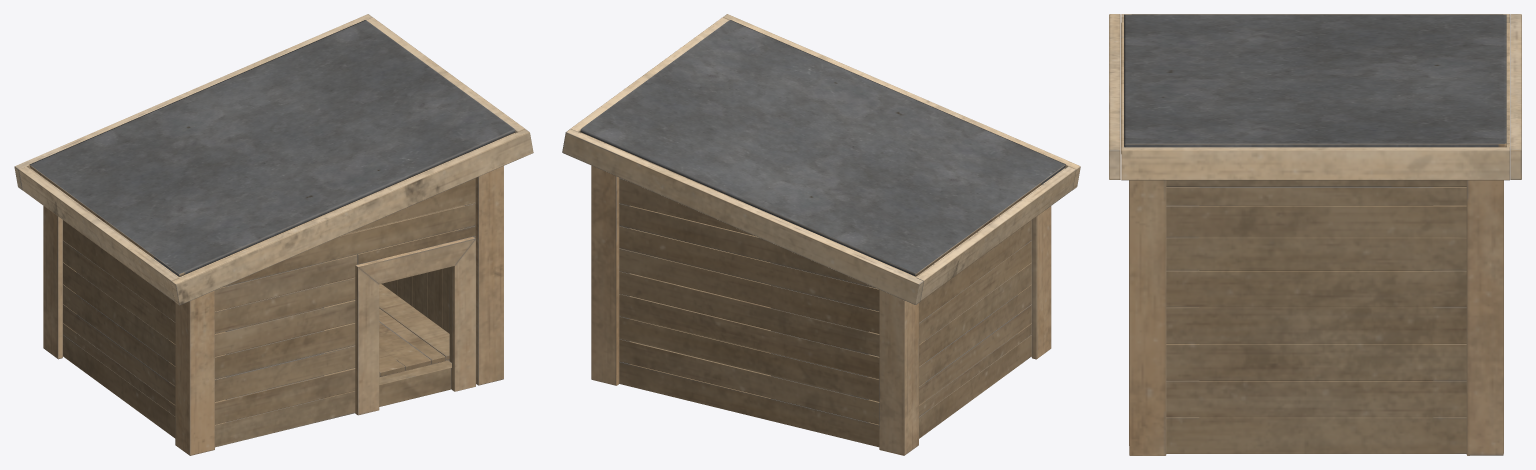
Rendered from Wooden_Kennel.fbx.
3 views of the same model, side by side, from view 1: azimuth 30°, elevation 25°; view 2: azimuth 150°, elevation 25°; view 3: azimuth 270°, elevation 25° (orthographic). The views are drawn at different scales.
Parts seen in each view (by area): view 1: Roof_Concrete_Geo, FrontWall_Outside_Geo1, Roof_Geo, LeftWall_Outside_Geo1, Outside_Frames_Geo, Door_Frame_Geo, Floor_Frame_Geo, RightWall_Outside_Geo1; view 2: Roof_Concrete_Geo, BackWall_Outside_Geo1, Roof_Geo, LeftWall_Outside_Geo1, Outside_Frames_Geo; view 3: RightWall_Outside_Geo1, Roof_Concrete_Geo, Outside_Frames_Geo, Roof_Geo.
Part boxes in pixels (left/top/right/bottom): Roof_Concrete_Geo: left=29, top=20, right=515, bottom=276; FrontWall_Outside_Geo1: left=215, top=178, right=475, bottom=447; Roof_Geo: left=14, top=14, right=533, bottom=305; LeftWall_Outside_Geo1: left=63, top=220, right=175, bottom=438; Outside_Frames_Geo: left=43, top=166, right=503, bottom=455; Door_Frame_Geo: left=355, top=236, right=475, bottom=415; Floor_Frame_Geo: left=379, top=284, right=449, bottom=376; RightWall_Outside_Geo1: left=381, top=267, right=449, bottom=333; Roof_Concrete_Geo: left=580, top=20, right=1065, bottom=276; BackWall_Outside_Geo1: left=619, top=177, right=879, bottom=447; Roof_Geo: left=562, top=14, right=1080, bottom=304; LeftWall_Outside_Geo1: left=919, top=220, right=1031, bottom=438; Outside_Frames_Geo: left=591, top=165, right=1051, bottom=455; RightWall_Outside_Geo1: left=1166, top=180, right=1466, bottom=453; Roof_Concrete_Geo: left=1124, top=14, right=1506, bottom=147; Outside_Frames_Geo: left=1129, top=180, right=1503, bottom=455; Roof_Geo: left=1109, top=14, right=1521, bottom=180.
Size of the model in its own units: 50.97 by 34.24 by 39.91.
